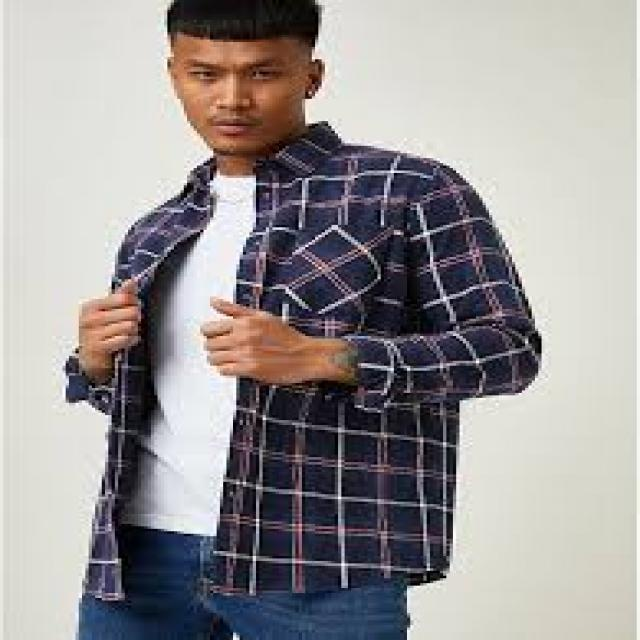plaid: (47, 118, 544, 595)
